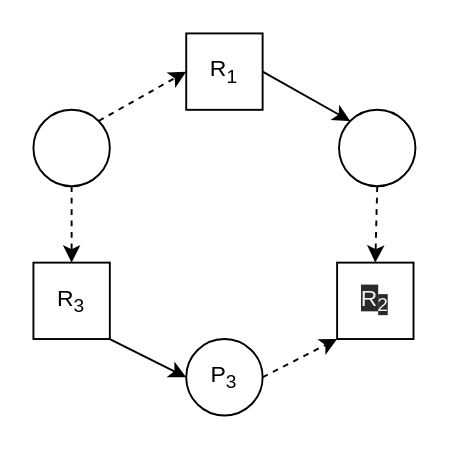
Image size: 449x449. Some labels were removed from this diagram. The shapes that lost their labels are listed below. From the top down, each one's box as (x1, y1, x2, y2) in pixels, then its label:
(32, 108, 110, 186): P 1
(337, 108, 415, 186): P 2
